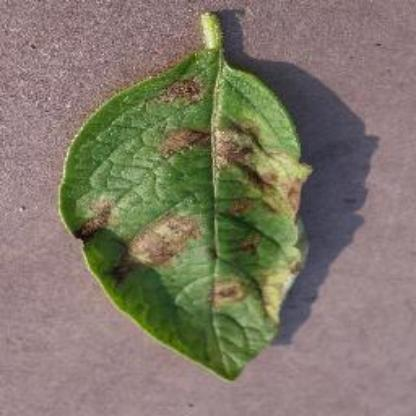Late-Blight: (52, 11, 317, 382)
